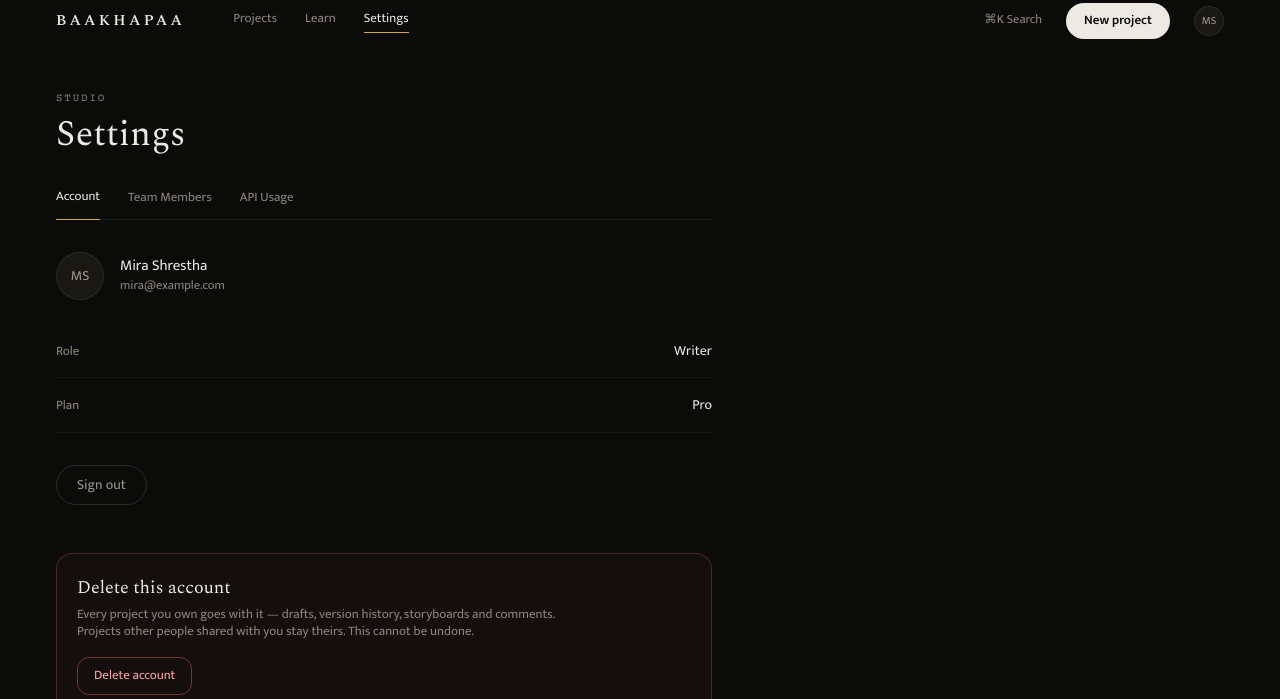
Test: deleting an account › accepts it in any case, because nobody types their own address carefully
The image size is (1280, 699).
Click the button "Delete account".
click(135, 676)  # box x1=77 y1=657 x2=192 y2=695
(page scrolled)
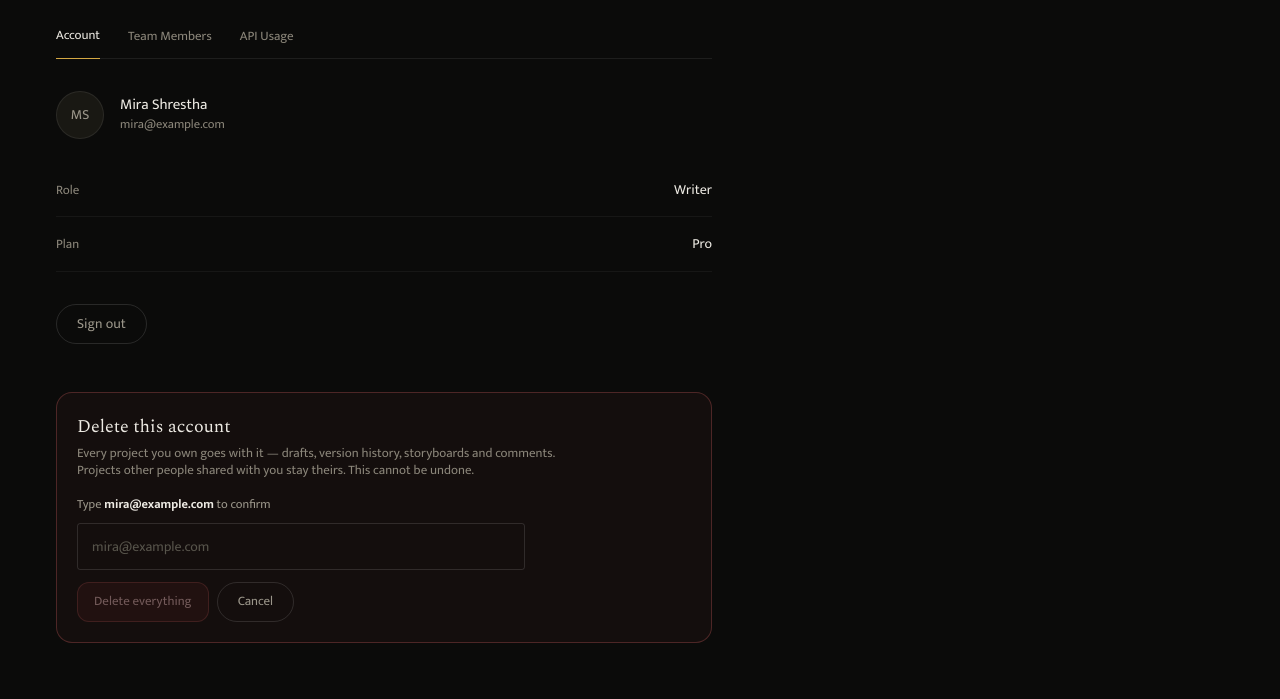
Type "MIRA@Example.COM" into the field named "Confirm your email".
click(301, 546); type("MIRA@Example.COM")  # box x1=77 y1=523 x2=525 y2=570
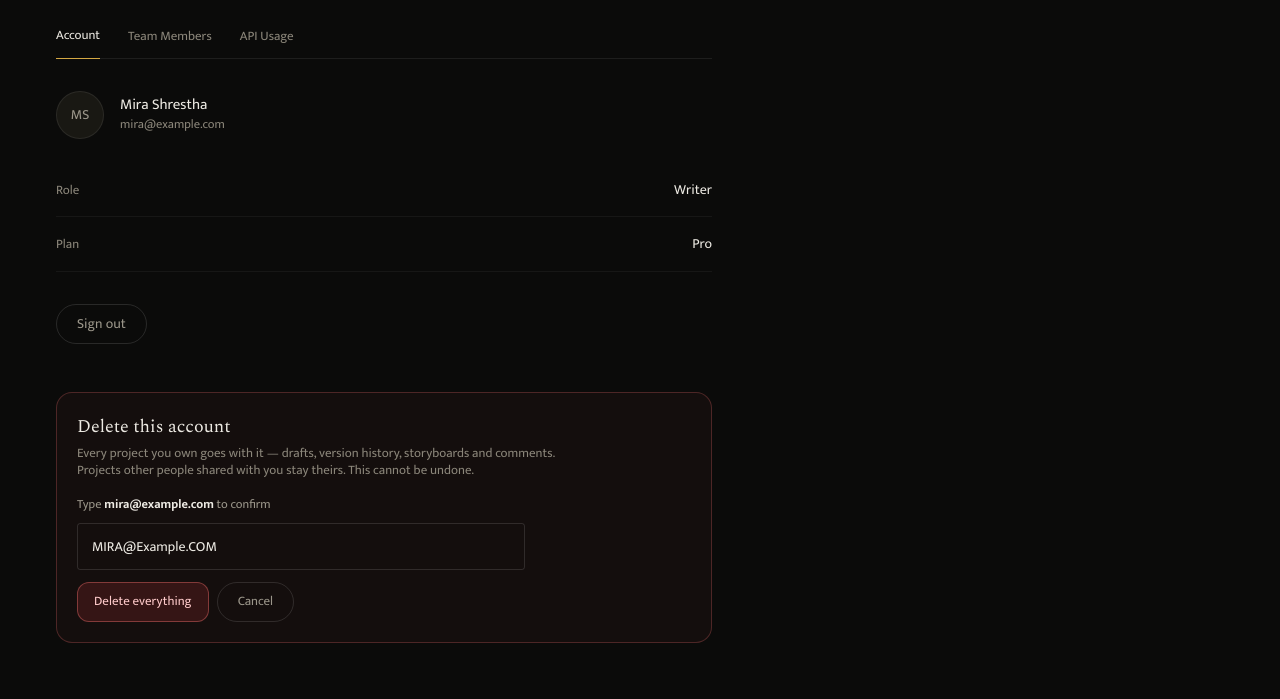
Expected: the button "Delete everything" is enabled, x1=77 y1=582 x2=209 y2=622
